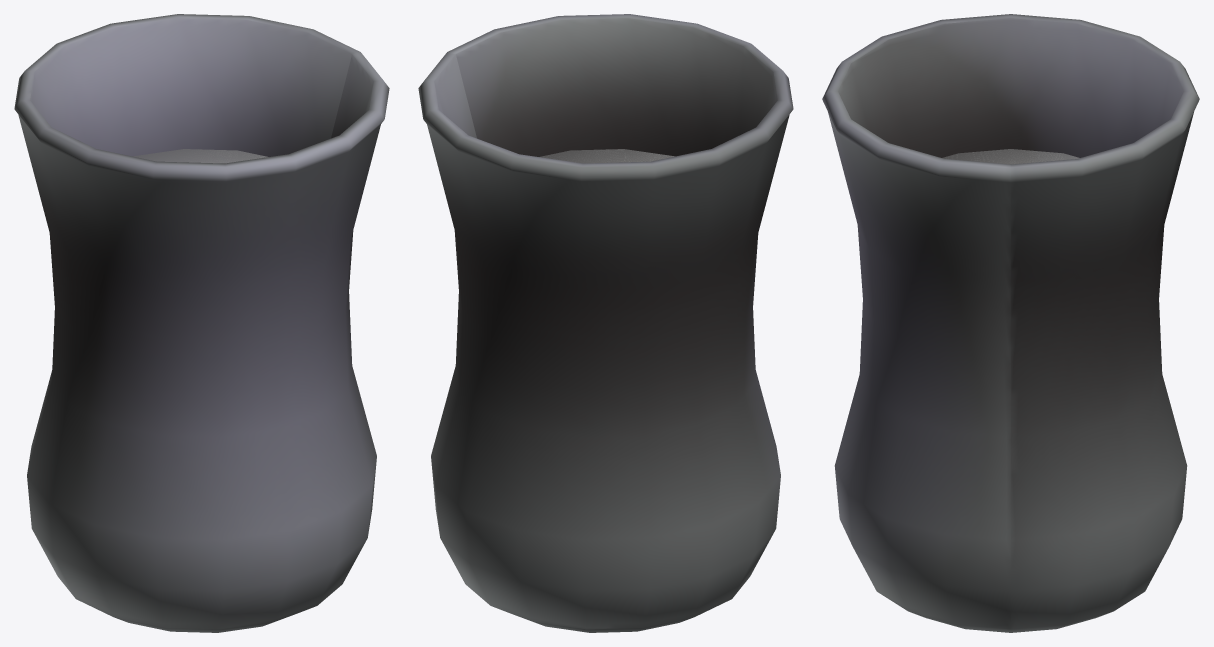
The model's file is tea-Glasses.fbx.
The picture shows the model from 3 angles, left to right: view 1: azimuth 30°, elevation 25°; view 2: azimuth 150°, elevation 25°; view 3: azimuth 270°, elevation 25°; orthographic projection.
Visible parts, largest first — view 1: tea-Glasses, drink-in-tea-Glasses; view 2: tea-Glasses, drink-in-tea-Glasses; view 3: tea-Glasses, drink-in-tea-Glasses.
Part boxes in pixels (bbox=[...]): tea-Glasses: bbox=[14, 14, 389, 632]; drink-in-tea-Glasses: bbox=[133, 149, 267, 163]; tea-Glasses: bbox=[418, 14, 793, 632]; drink-in-tea-Glasses: bbox=[539, 149, 674, 163]; tea-Glasses: bbox=[822, 14, 1199, 632]; drink-in-tea-Glasses: bbox=[942, 149, 1079, 164].
Size of the model in its own units: 0.3329 by 0.4773 by 0.3329.
